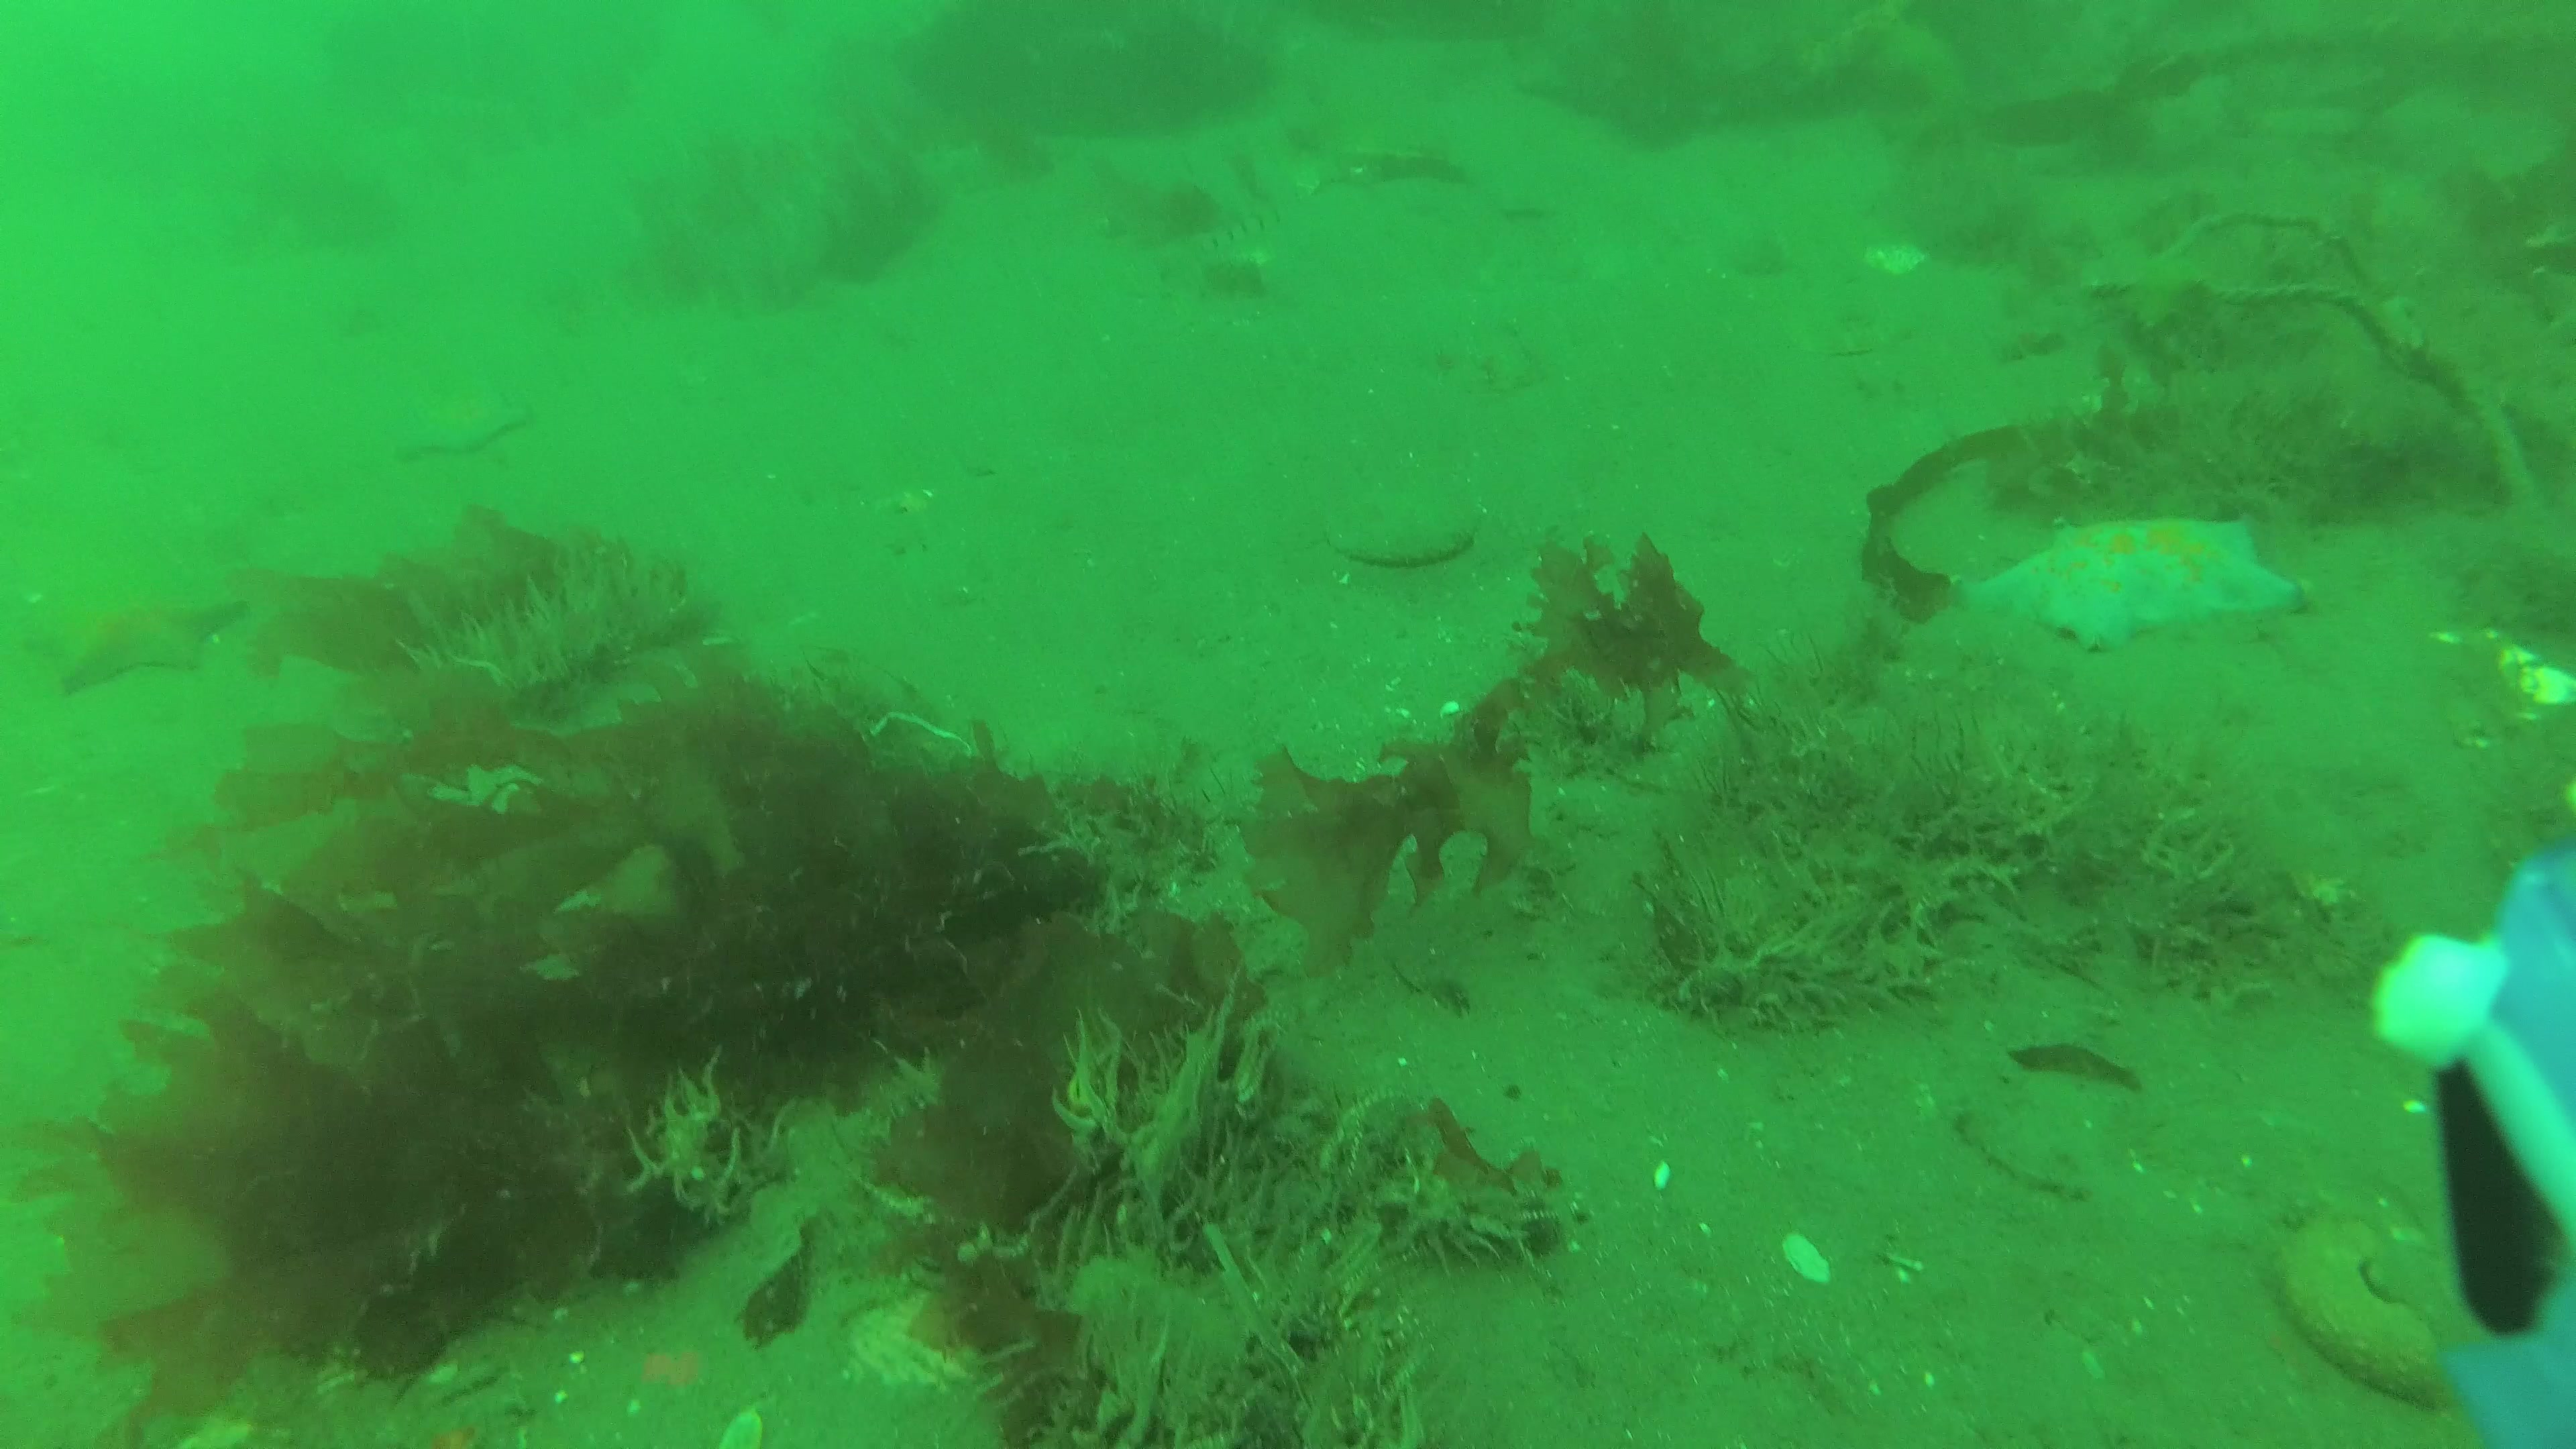starfish: (1951, 511, 2316, 658)
